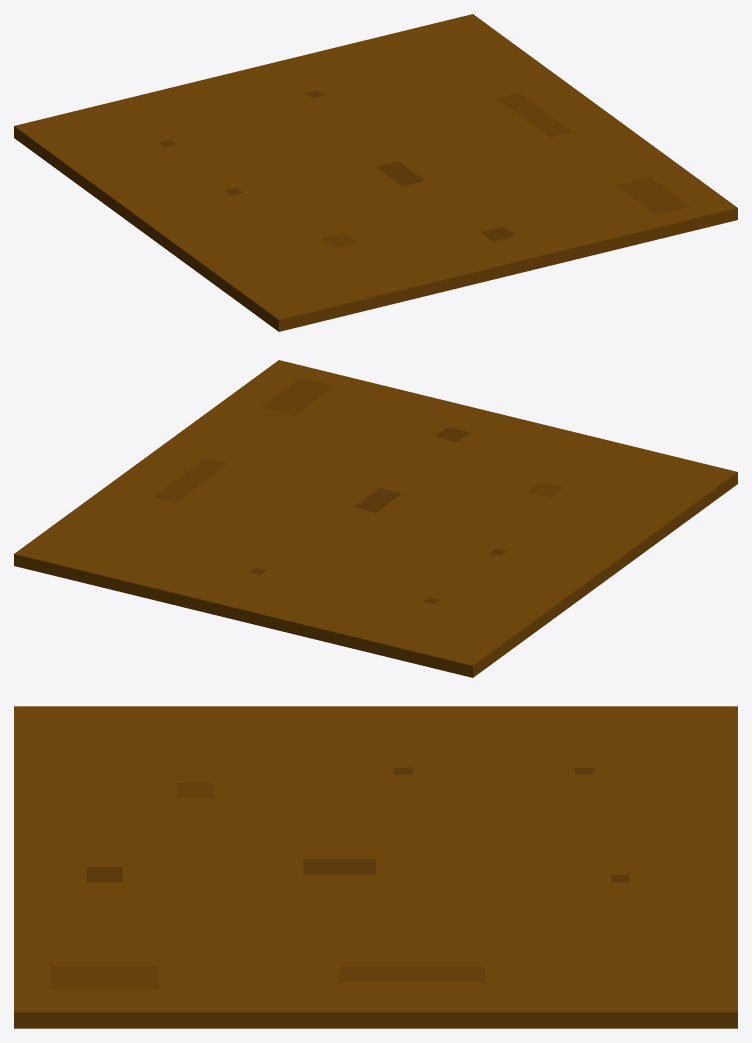
The model's file is floor_2.obj.
3 renders of one model, top to bottom at view 1: azimuth 30°, elevation 25°; view 2: azimuth 150°, elevation 25°; view 3: azimuth 270°, elevation 25°, orthographic. The views are drawn at different scales.
Bounding box in the file's own units: 40 × 1 × 40.
1 material, 1 textured.
